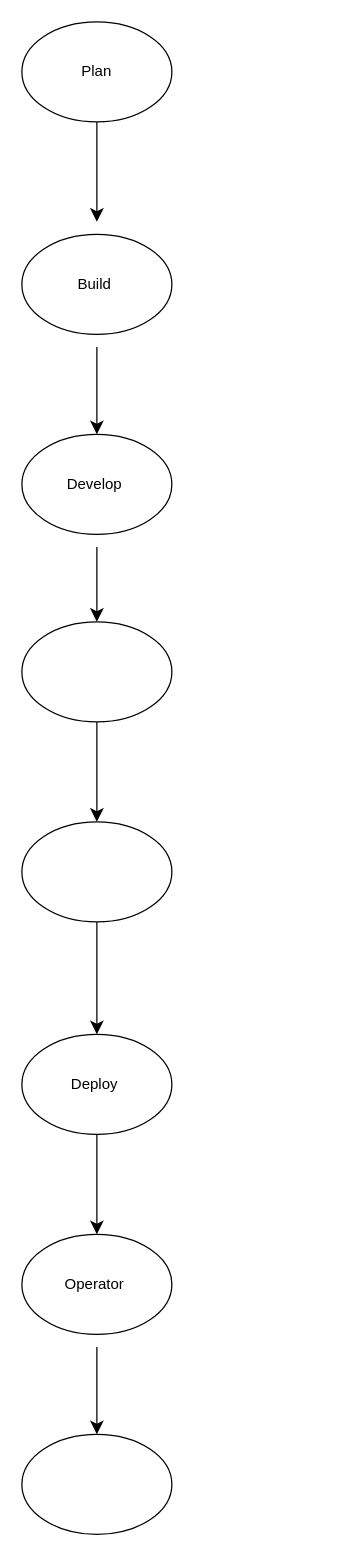
Some shapes in this 344 by 1556 pixel diagram are drawn without their labels. Each missing label, with the centre of its shape:
"Monitor" goes at (96,1483).
"Relief" goes at (96,871).
"Test" goes at (96,671).
